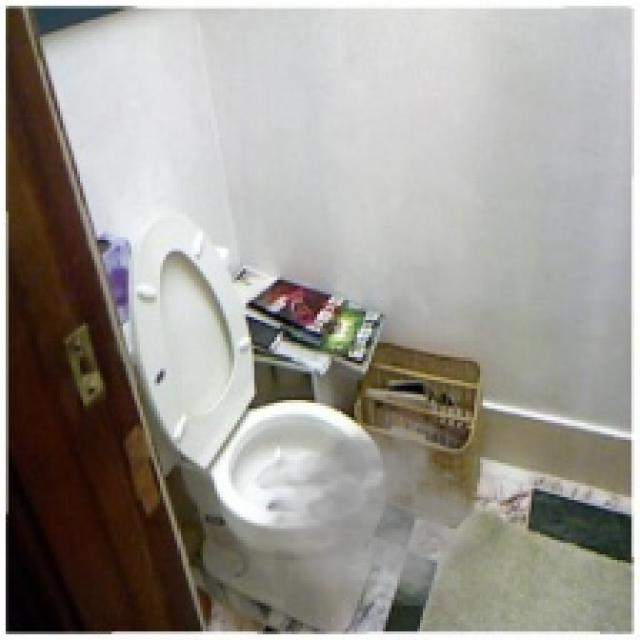smoke: (249, 406, 494, 606)
